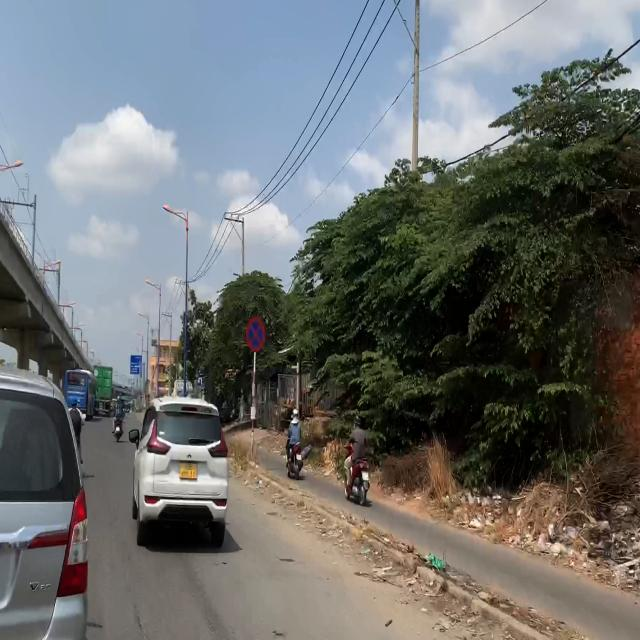Cam dung va do: (245, 315, 266, 353)
